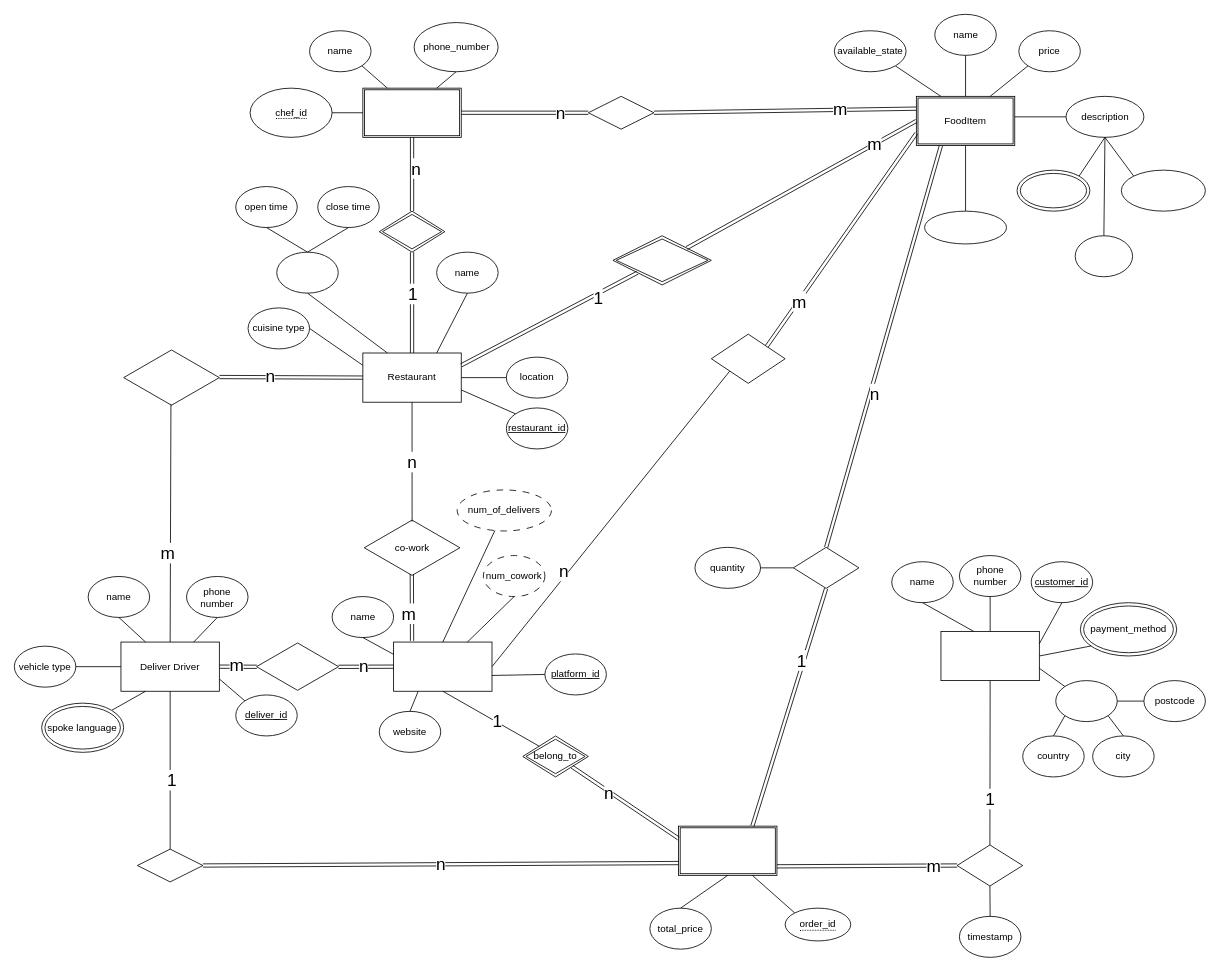
Some shapes in this 1220 by 972 pixel diagram are drawn without their labels. Here are the shapes that lost their labels. From the top down, the centre of each, then its label:
the point at 411,112: Chef
the point at 621,112: prepare
the point at 1053,190: ingredients
the point at 1163,190: preparation_time
the point at 411,231: employ
the point at 965,227: food_id
the point at 307,272: open hour
the point at 661,260: offers
the point at 1103,256: calories
the point at 171,377: has
the point at 748,358: Display
the point at 826,567: contains
the point at 297,666: hired
the point at 442,666: Platform
the point at 989,656: Customer
the point at 1086,701: address
the point at 170,865: deliver
the point at 727,850: Order
the point at 989,865: place
